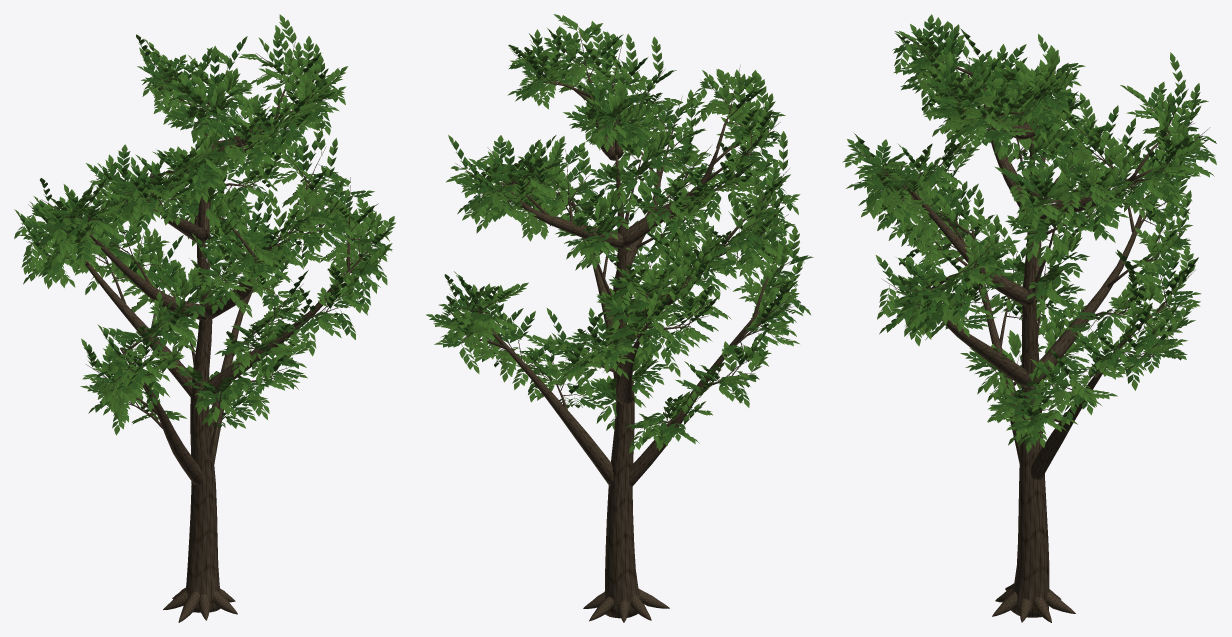
Rendered from frontier_sunmeadow_ash_lod0.glb.
The picture shows the model from 3 angles, left to right: view 1: azimuth 30°, elevation 25°; view 2: azimuth 150°, elevation 25°; view 3: azimuth 270°, elevation 25°; orthographic projection. The views are drawn at different scales.
Visible parts, largest first — view 1: frontier_sunmeadow_ash_LOD0; view 2: frontier_sunmeadow_ash_LOD0; view 3: frontier_sunmeadow_ash_LOD0.
Boxes of the visible parts, x1,y1,x2,y2 form: frontier_sunmeadow_ash_LOD0: (14, 14, 395, 622); frontier_sunmeadow_ash_LOD0: (426, 14, 813, 622); frontier_sunmeadow_ash_LOD0: (842, 14, 1216, 622).
Bounding box in the file's own units: 8.24 × 13.73 × 7.88.
Materials: 2 (2 with a texture image).
